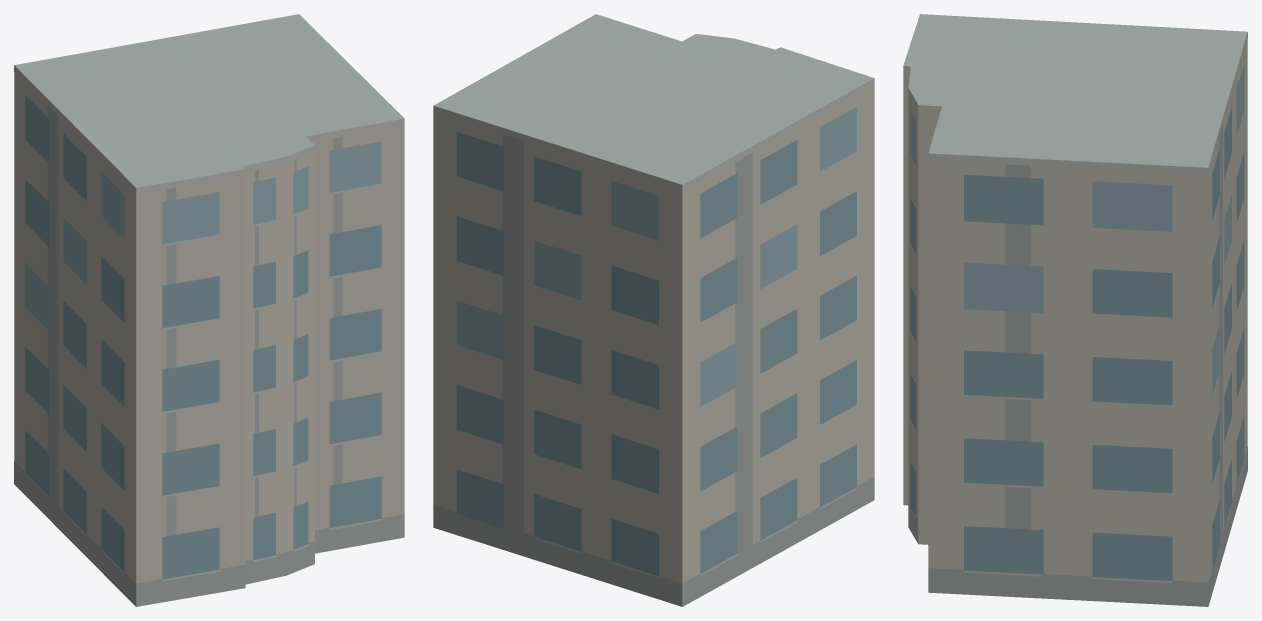
Rendered from survey-upis-32940339.glb.
3 renders of one model, left to right at view 1: azimuth 30°, elevation 25°; view 2: azimuth 150°, elevation 25°; view 3: azimuth 270°, elevation 25°, orthographic. The views are drawn at different scales.
Visible parts, largest first — view 1: survey-upis-32940339.tmp; view 2: survey-upis-32940339.tmp; view 3: survey-upis-32940339.tmp.
Part boxes in pixels (x1,y1,x2,y2): survey-upis-32940339.tmp: (14,14,404,606); survey-upis-32940339.tmp: (433,14,874,606); survey-upis-32940339.tmp: (903,14,1247,606).
Bounding box in the file's own units: 11.49 × 15.3 × 10.89.
